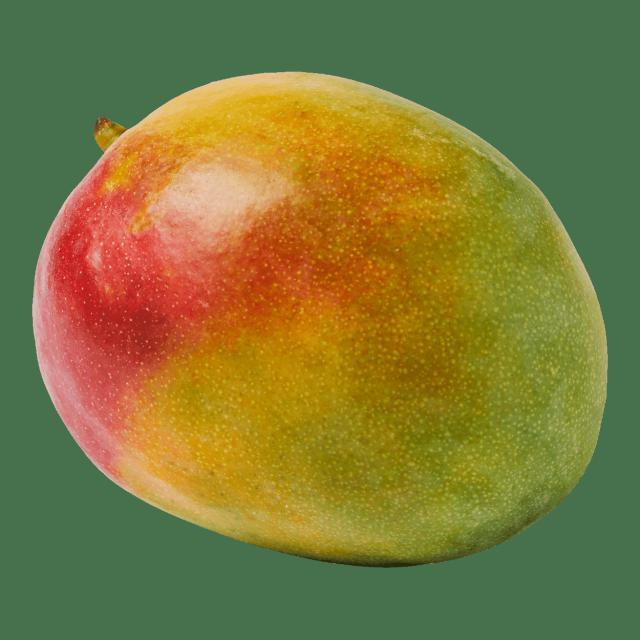mango: (33, 72, 607, 566)
